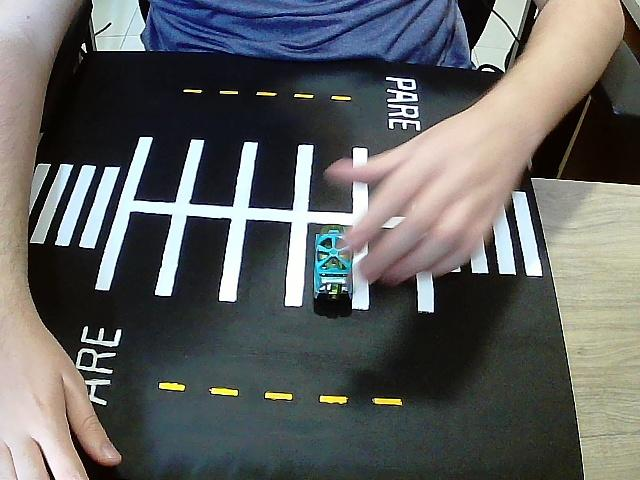Carro: (310, 226, 354, 318)
